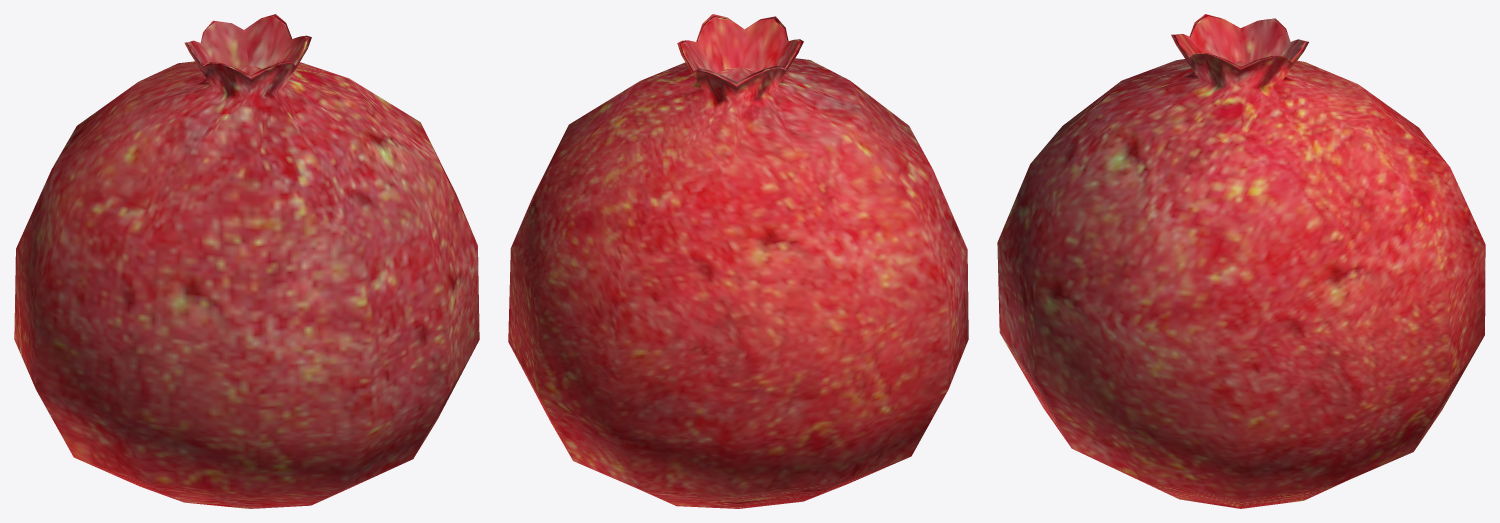
Rendered from amar.fbx.
The picture shows the model from 3 angles, left to right: view 1: azimuth 30°, elevation 25°; view 2: azimuth 150°, elevation 25°; view 3: azimuth 270°, elevation 25°; orthographic projection.
Parts seen in each view (by area): view 1: pSphere2; view 2: pSphere2; view 3: pSphere2.
Part boxes in pixels (left/top/right/bottom): pSphere2: left=14, top=14, right=479, bottom=508; pSphere2: left=508, top=14, right=968, bottom=508; pSphere2: left=997, top=14, right=1485, bottom=508.
Size of the model in its own units: 3.51 by 3.54 by 3.54.
